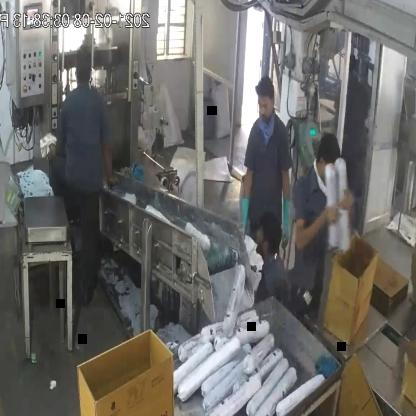glove: (232, 170, 254, 242), (277, 174, 295, 245)
no_glove: (292, 195, 340, 257), (398, 316, 416, 372)
